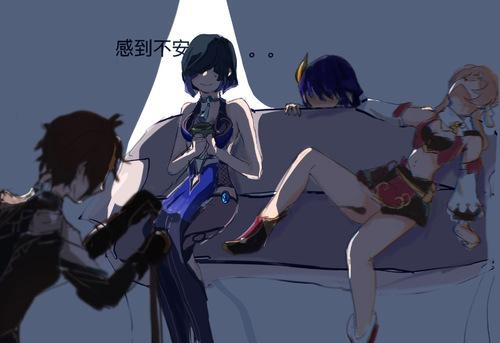夜兰: (152, 32, 264, 343)
